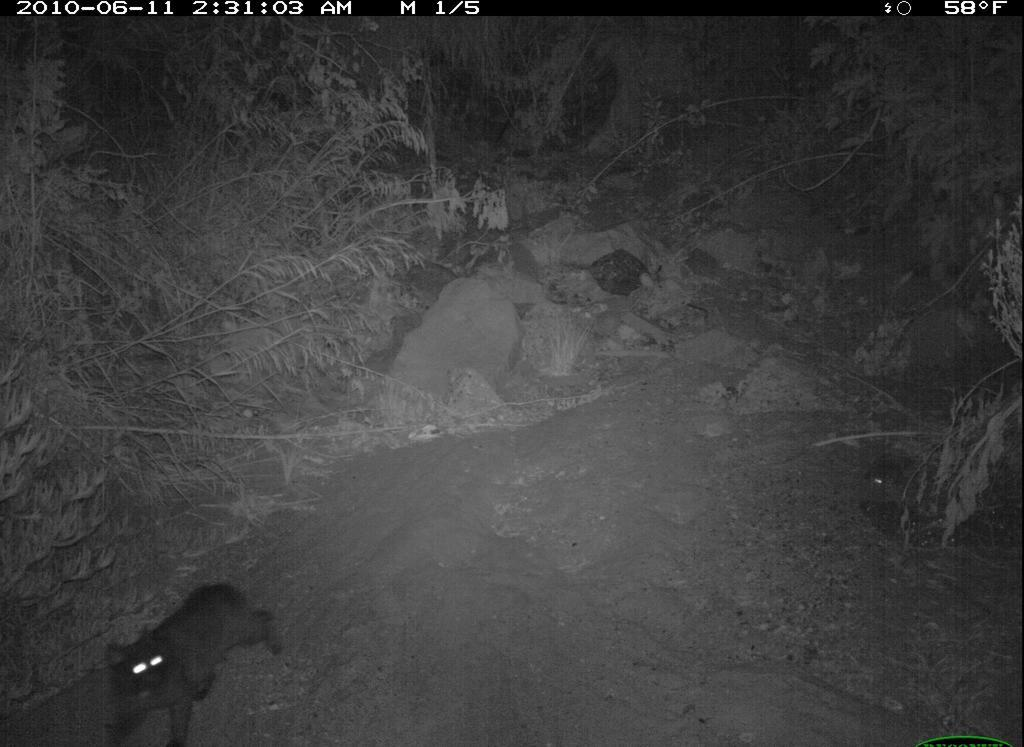cat: (100, 577, 287, 747)
